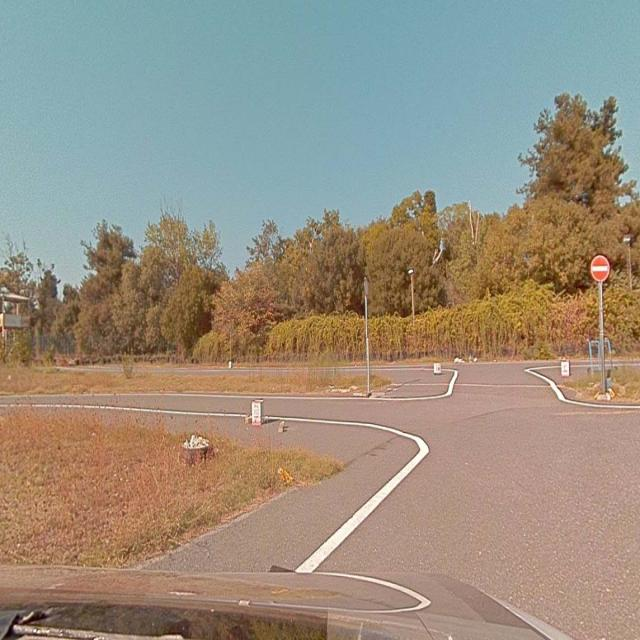girisyok: (590, 253, 609, 280)
